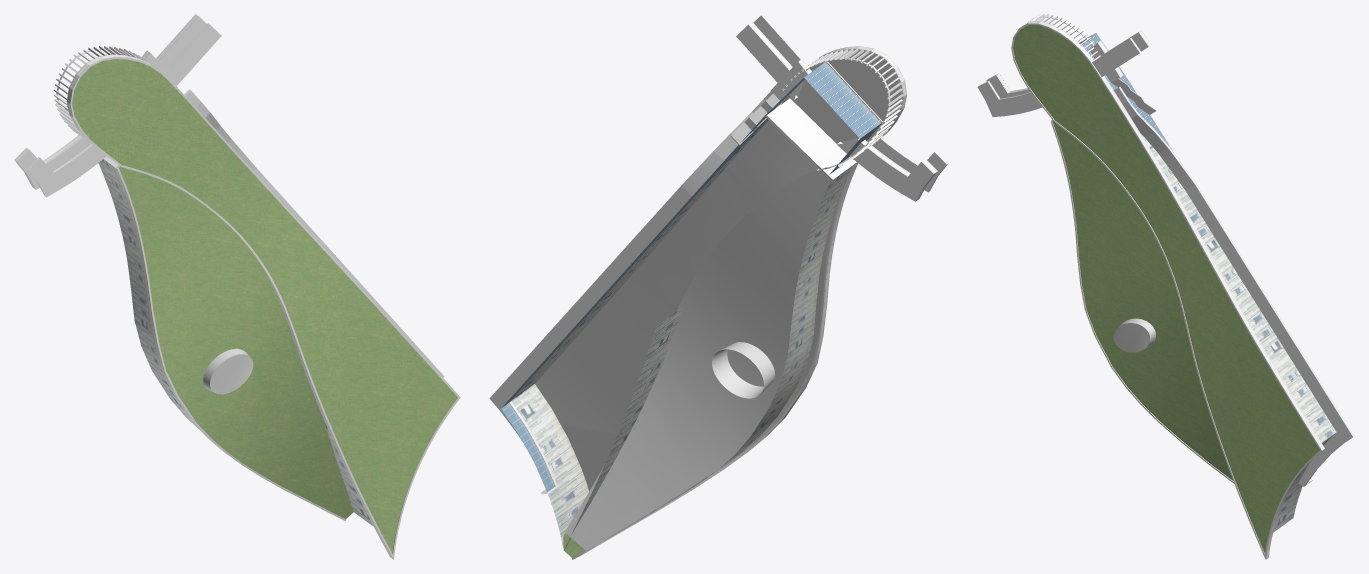
3 renders of one model, left to right at view 1: azimuth 30°, elevation 25°; view 2: azimuth 150°, elevation 25°; view 3: azimuth 330°, elevation 25°, orthographic. The views are drawn at different scales.
Visible parts, largest first — view 1: 7, 斜面2, 底面, 6.002, 斜面2墙面, 斜面2突出1, 圆柱2, 2.002, 6.004, 斜面1墙面; view 2: 1斜面2突出1底面, 斜面1墙面, 底面, 2.002, 斜面2墙面, 6.0055, 1斜面1突出1底面.001, 6.001, 斜面2突出1, 圆柱2, 6.004, 5楼梯1 (+1 smaller); view 3: 7, 斜面2, 2.002, 斜面1墙面, 6.002, 底面, 圆柱2, 斜面2突出1, 6.004.
Part boxes in pixels (x1,y1,x2,y2): 7: (72, 59, 457, 553); 斜面2: (119, 166, 353, 518); 底面: (14, 14, 221, 197); 6.002: (66, 54, 460, 559); 斜面2墙面: (98, 159, 199, 429); 斜面2突出1: (114, 167, 346, 520); 圆柱2: (203, 348, 253, 394); 2.002: (184, 89, 444, 377); 6.004: (54, 45, 157, 143); 斜面1墙面: (324, 420, 373, 526); 1斜面2突出1底面: (535, 98, 845, 550); 斜面1墙面: (501, 99, 787, 550); 底面: (736, 14, 948, 201); 2.002: (489, 91, 772, 494); 斜面2墙面: (593, 166, 852, 546); 6.0055: (742, 51, 901, 188); 1斜面1突出1底面.001: (765, 98, 856, 181); 6.001: (766, 61, 882, 174); 斜面2突出1: (572, 162, 857, 559); 圆柱2: (712, 342, 774, 398); 6.004: (782, 49, 903, 166); 5楼梯1: (730, 93, 782, 145); 7: (1013, 25, 1319, 553); 斜面2: (1052, 121, 1233, 480); 2.002: (1114, 86, 1354, 486); 斜面1墙面: (1114, 79, 1336, 532); 6.002: (1011, 21, 1324, 559); 底面: (977, 30, 1151, 117); 圆柱2: (1113, 318, 1155, 352); 斜面2突出1: (1051, 121, 1234, 483); 6.004: (1023, 14, 1104, 75).
Bounding box in the file's own units: 116 × 146 × 17.18.
5 materials, 4 textured.
